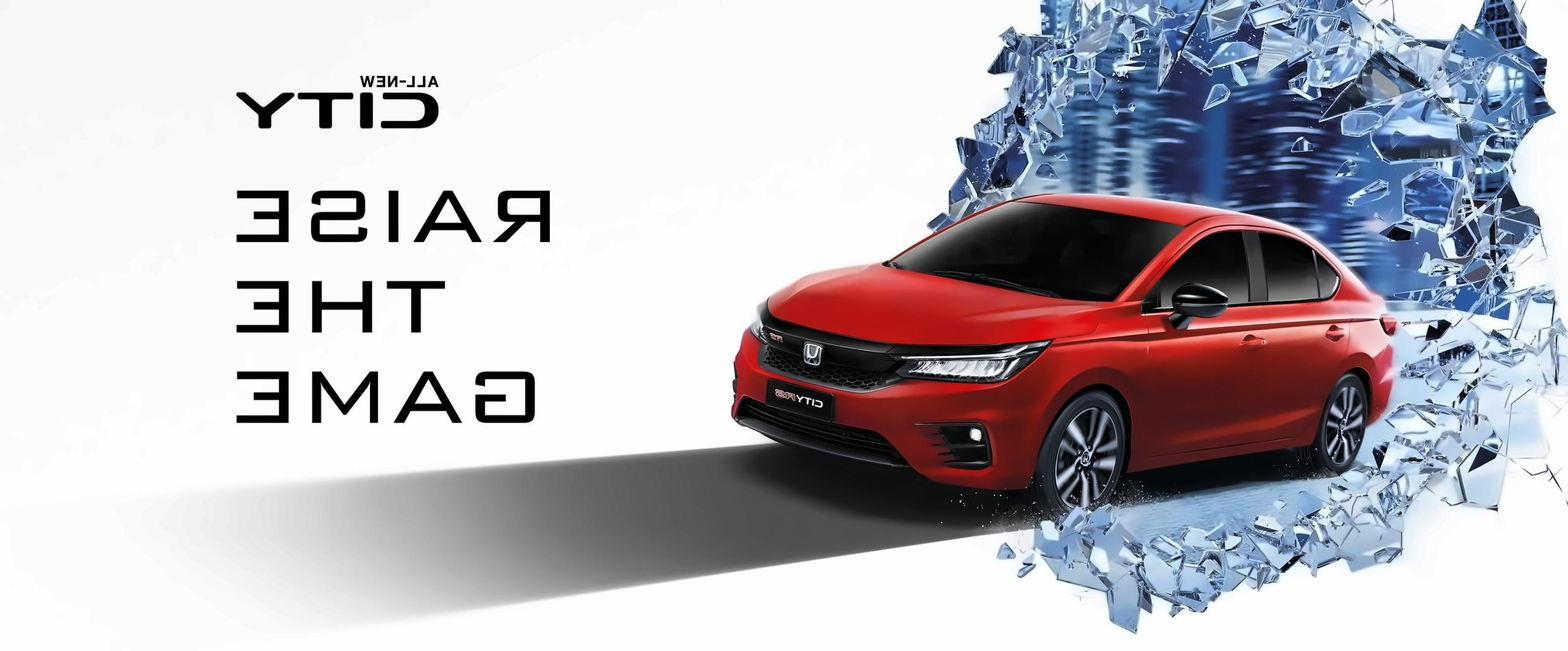Car hood: (755, 257, 1112, 349)
Fender - -F-L-: (1040, 355, 1151, 404)
Fender - -R-L-: (1311, 348, 1395, 389)
Front bumper: (723, 328, 1043, 492)
Headlight - -L-: (893, 337, 1055, 389)
Headlight - -R-: (739, 298, 788, 348)
Passenger-s door - -F-L-: (1124, 214, 1262, 493)
Passenger-s door - -R-L-: (1241, 213, 1359, 484)
Rear bumper: (1348, 312, 1398, 431)
Rear light - -L-: (1372, 305, 1401, 345)
Side bumper - -L-: (1121, 413, 1321, 493)
Side mirror - -L-: (1171, 283, 1230, 321)
